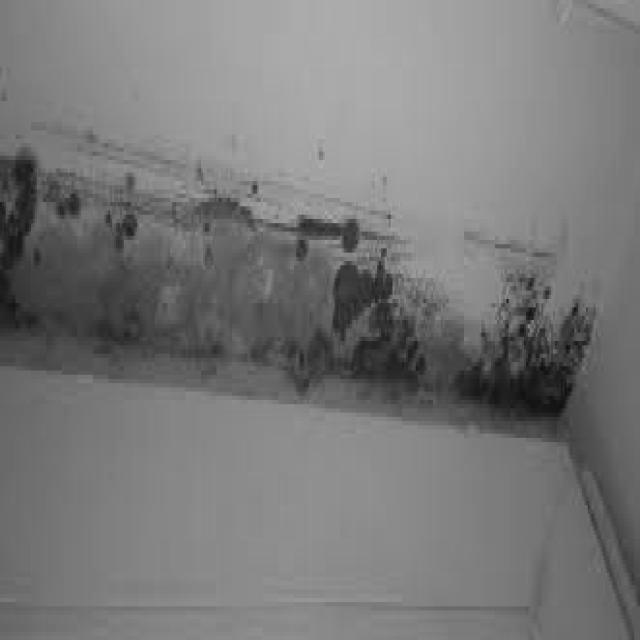stain marks: (0, 143, 594, 413)
